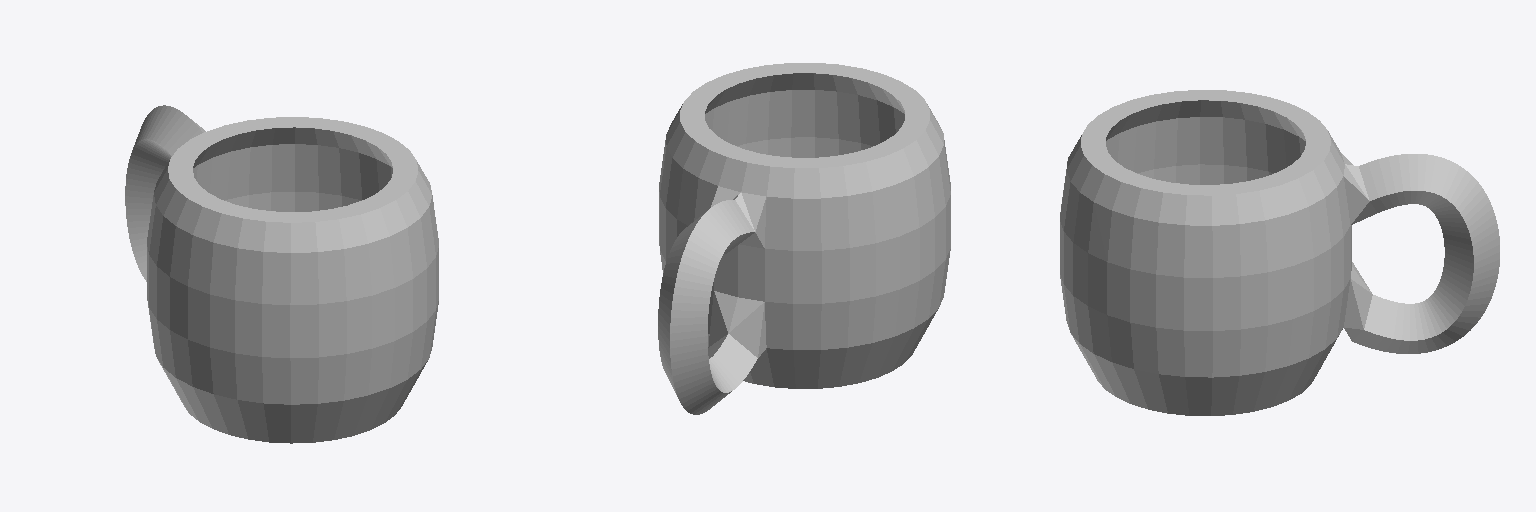
Rendered from Kop.obj.
The picture shows the model from 3 angles: view 1: azimuth 30°, elevation 25°; view 2: azimuth 150°, elevation 25°; view 3: azimuth 270°, elevation 25°; orthographic projection.
Bounding box in the file's own units: 0.0792 × 0.0677 × 0.1194.